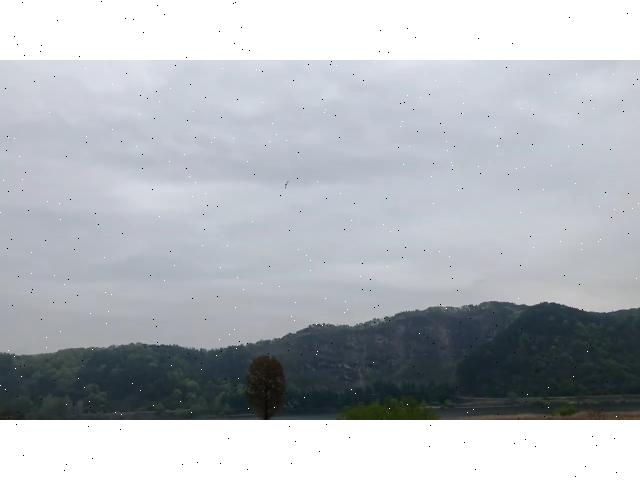Anti-Drone: (276, 178, 298, 193)
